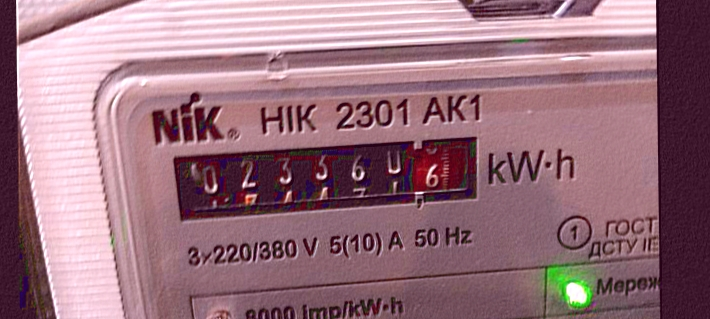0: (199, 162, 222, 196), (382, 145, 404, 177)
2: (238, 156, 259, 190)
3: (312, 148, 332, 182), (274, 155, 294, 186)
6: (347, 150, 369, 183), (422, 158, 444, 191)
screen: (157, 127, 496, 227)
